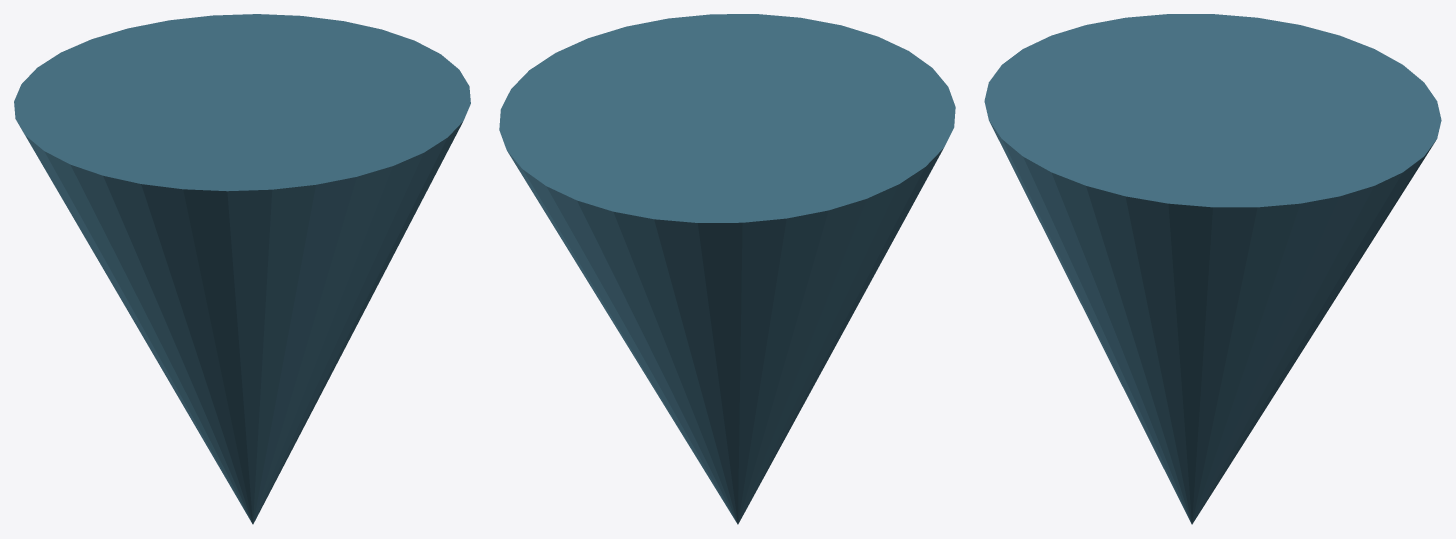
The model's file is PicaturaPloaie.obj.
3 renders of one model, left to right at view 1: azimuth 30°, elevation 25°; view 2: azimuth 150°, elevation 25°; view 3: azimuth 270°, elevation 25°, orthographic.
Visible parts, largest first — view 1: Cone; view 2: Cone; view 3: Cone.
Part boxes in pixels (<box>): Cone: <box>14,14,470,524</box>; Cone: <box>499,14,955,524</box>; Cone: <box>984,14,1441,524</box>.
Bounding box in the file's own units: 0.0364 × 0.0372 × 0.0364.
